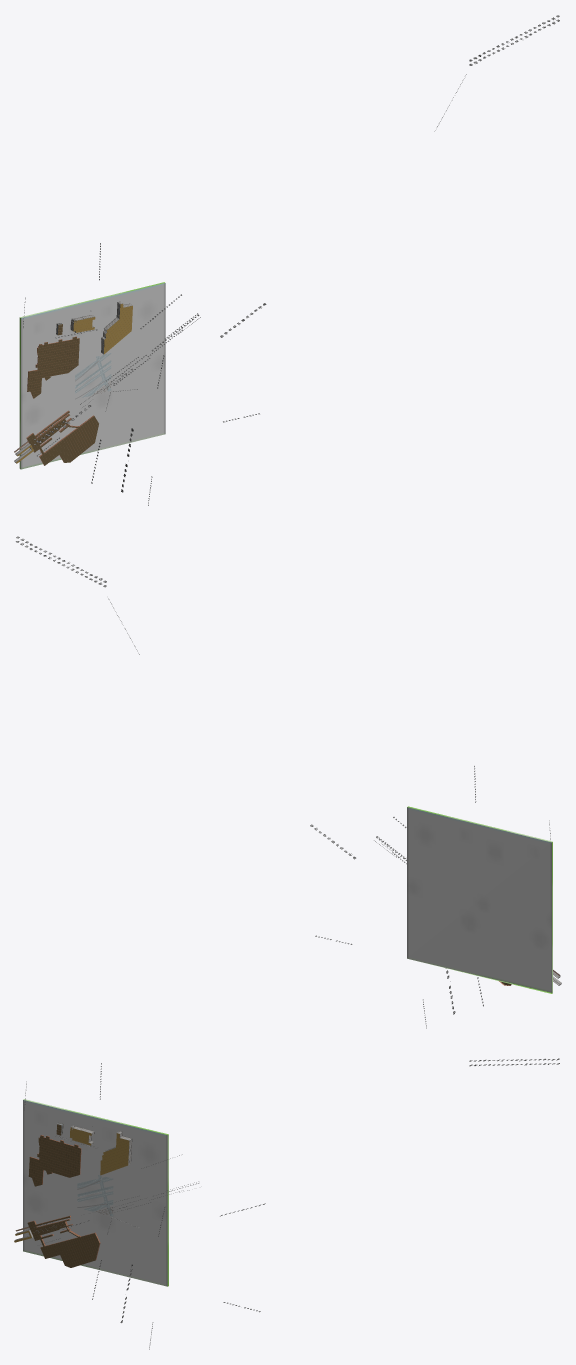
3 views of the same model, one above another, from view 1: azimuth 30°, elevation 25°; view 2: azimuth 150°, elevation 25°; view 3: azimuth 330°, elevation 25° (orthographic).
Parts seen in each view (by area): view 1: POLYGON, BUILDING, FONT, POLYLINE; view 2: POLYGON, FONT; view 3: POLYGON, BUILDING, POLYLINE, FONT.
Part boxes in pixels (x1,y1,x2,y2): POLYGON: (19,282,165,469); BUILDING: (14,301,132,465); FONT: (23,15,559,505); POLYLINE: (75,353,111,399); POLYGON: (407,806,552,993); FONT: (16,536,550,1028); POLYGON: (23,1099,168,1286); BUILDING: (14,1123,132,1267); POLYLINE: (77,1175,113,1216); FONT: (24,1058,559,1349).
Size of the model in its own units: 2302 by 1578 by 29.
Materials: 4 (4 with a texture image).
